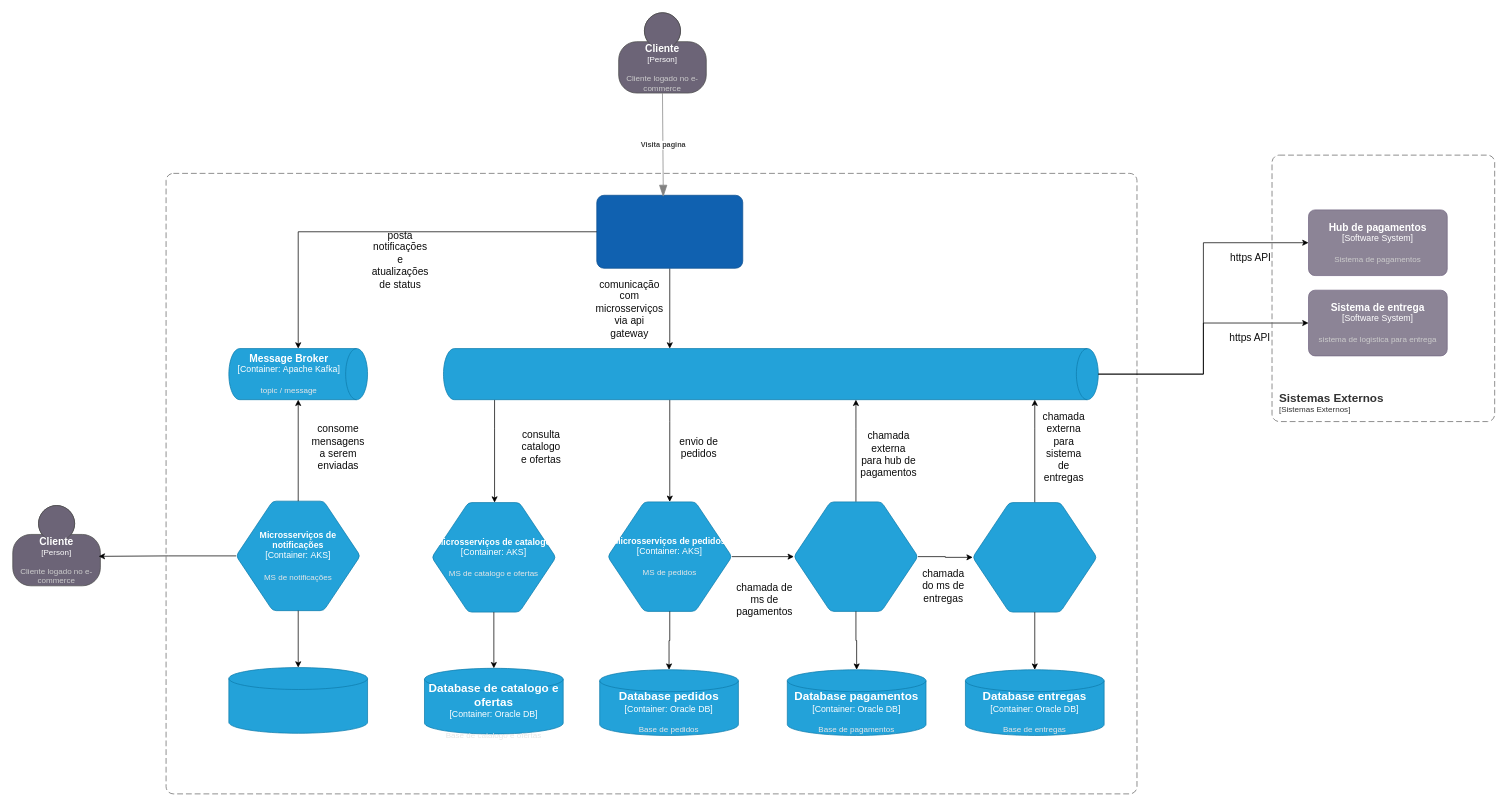
Image size: 1507x807. Some labels were removed from this diagram. Each missing label, with the box of its shape:
API Gateway [Container: APIGEE] External Gateway: (443, 348, 1098, 400)
Cloud provider [Cloud]: (165, 173, 1137, 794)
Database notificações [Container: Oracle DB] Base de notificações: (228, 667, 368, 733)
Loja Online [Software System] e-commerce: (596, 195, 743, 268)
Microsserviços de entregas [Container: AKS] MS de entregas: (972, 502, 1097, 612)
Microsserviços de Pagamentos [Container: AKS] MS de Pagamentos: (793, 501, 918, 611)
